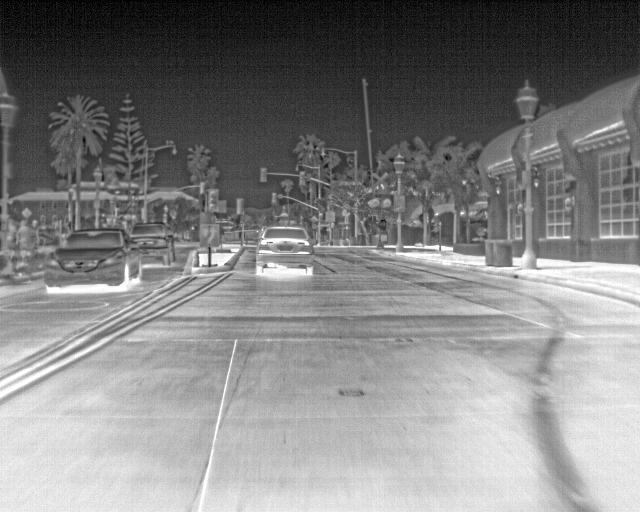bicycle: (42, 224, 141, 293), (252, 225, 316, 274), (128, 233, 173, 266)
